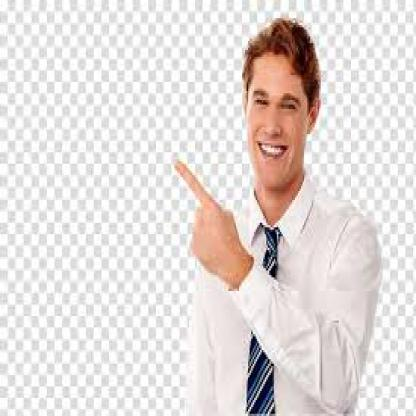Right: (170, 153, 250, 288)
